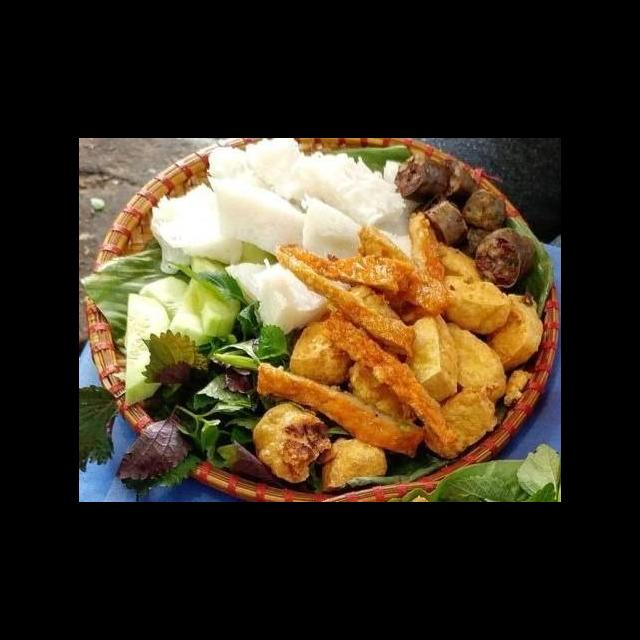bun: (191, 139, 425, 259), (148, 180, 248, 275), (210, 171, 308, 261), (247, 258, 339, 340), (296, 190, 371, 267)
bun dau: (80, 165, 561, 501)
cha com: (322, 305, 462, 446), (249, 357, 431, 464), (271, 237, 422, 363)
dau hu: (246, 394, 339, 485), (434, 242, 518, 339), (439, 319, 518, 404), (405, 301, 467, 403), (282, 313, 355, 392), (475, 291, 548, 370), (315, 430, 393, 494), (431, 386, 501, 451)
doi sun: (386, 152, 543, 295)
